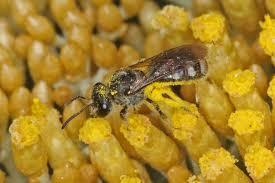Lasioglossum: (46, 41, 215, 121)
